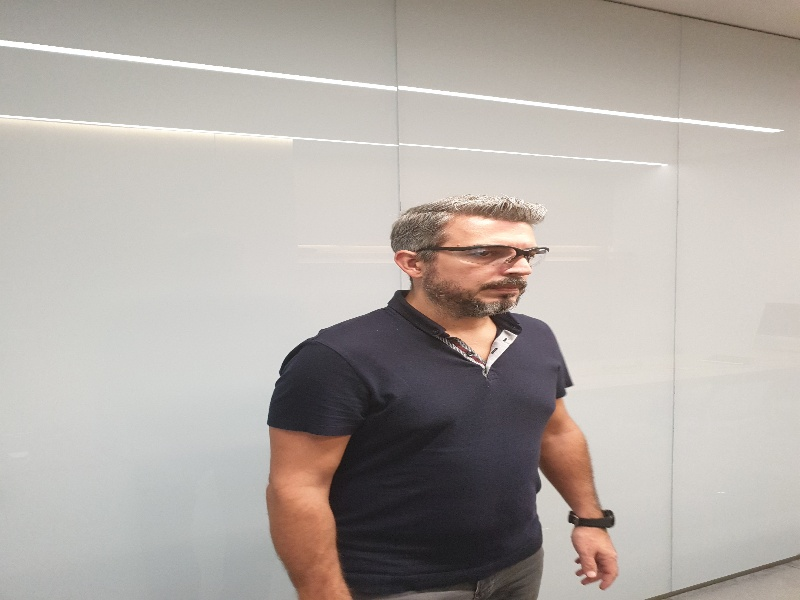Gozluk: (413, 245, 550, 264)
